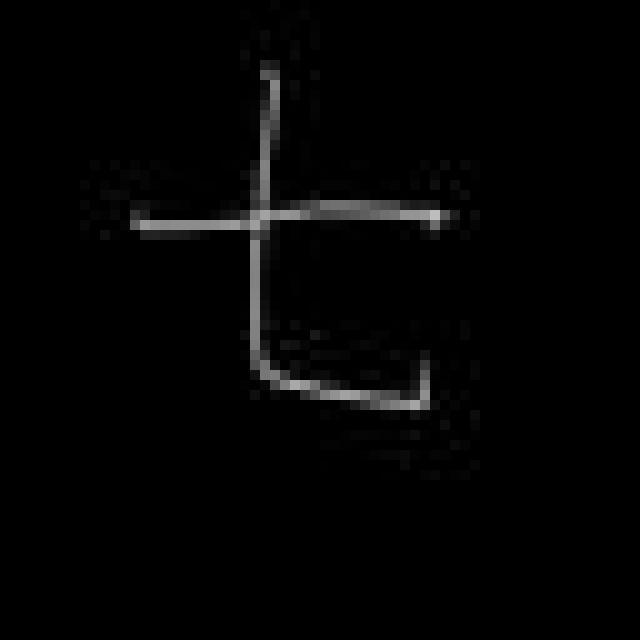7 -seven-: (124, 63, 448, 425)
